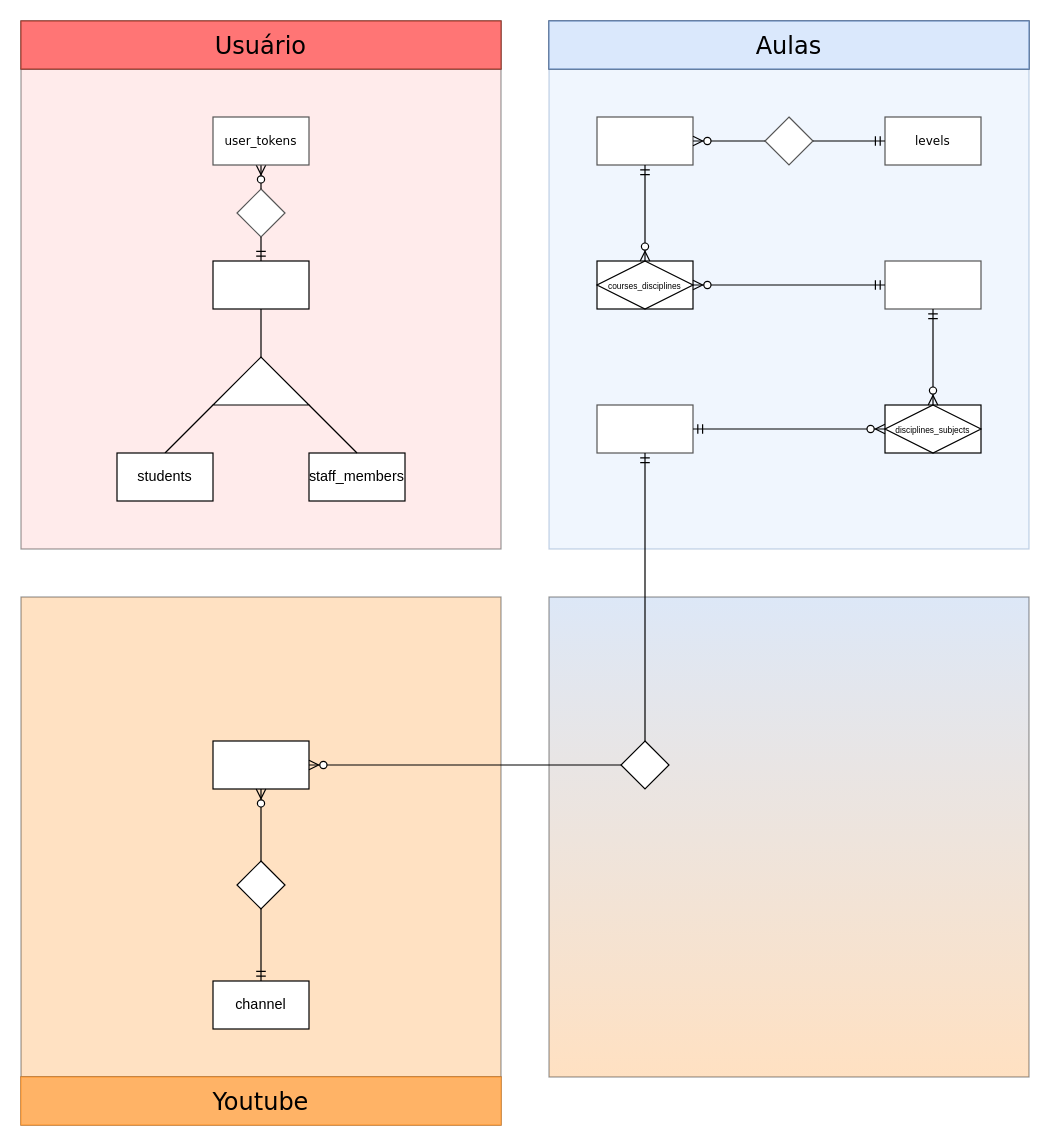
This 1050x1146 diagram has some shape labels left out. The centre of each missing label's shape, as x and y in pixels:
"courses" goes at point (644, 140).
"disciplines" goes at point (932, 284).
"subjects" goes at point (644, 428).
"users" goes at point (260, 284).
"videos" goes at point (260, 764).
